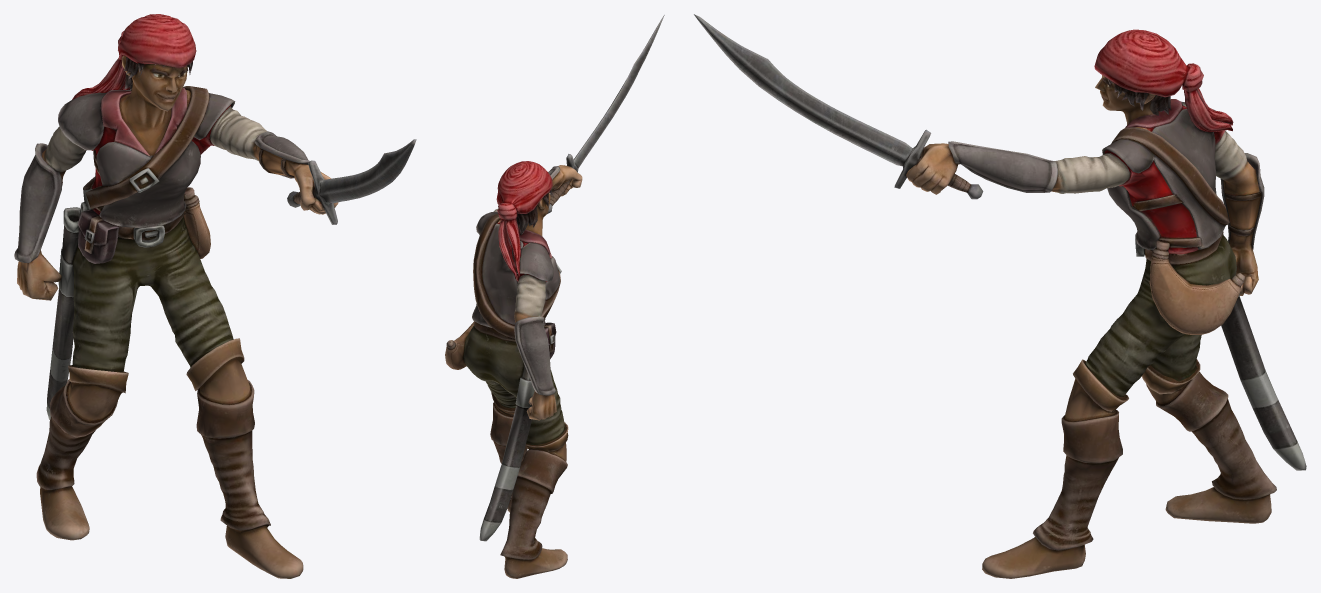
Rendered from MZ4250 - Bandit Female 01.glb.
3 renders of one model, left to right at view 1: azimuth 30°, elevation 25°; view 2: azimuth 150°, elevation 25°; view 3: azimuth 270°, elevation 25°, orthographic. The views are drawn at different scales.
Visible parts, largest first — view 1: BanditFemale; view 2: BanditFemale; view 3: BanditFemale.
Boxes of the visible parts, bbox=[...] form: BanditFemale: bbox=[14, 14, 416, 578]; BanditFemale: bbox=[445, 15, 664, 578]; BanditFemale: bbox=[694, 14, 1306, 578].
Size of the model in its own units: 0.3528 by 1.08 by 1.1.
1 material, 1 textured.
